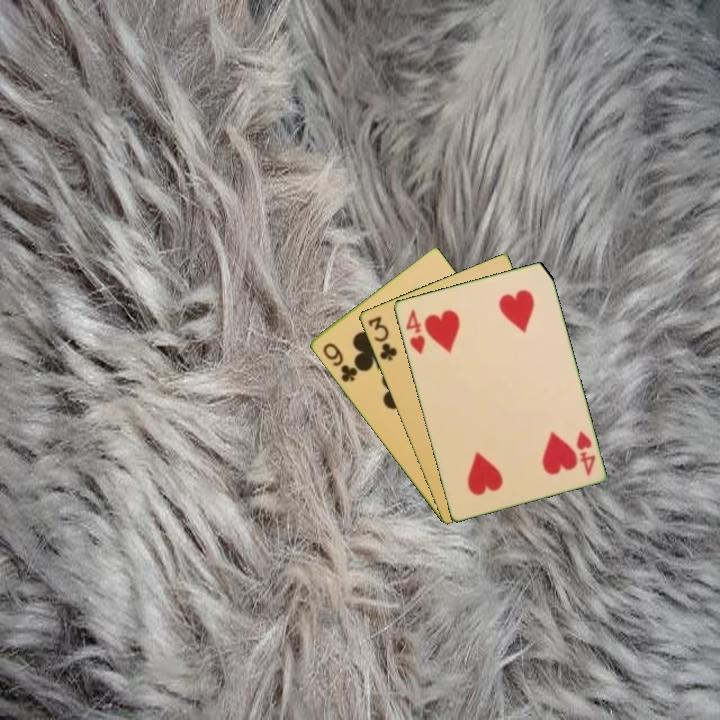3c: (364, 312, 400, 364)
4h: (402, 305, 428, 357), (572, 427, 598, 479)
9c: (319, 339, 360, 385)
